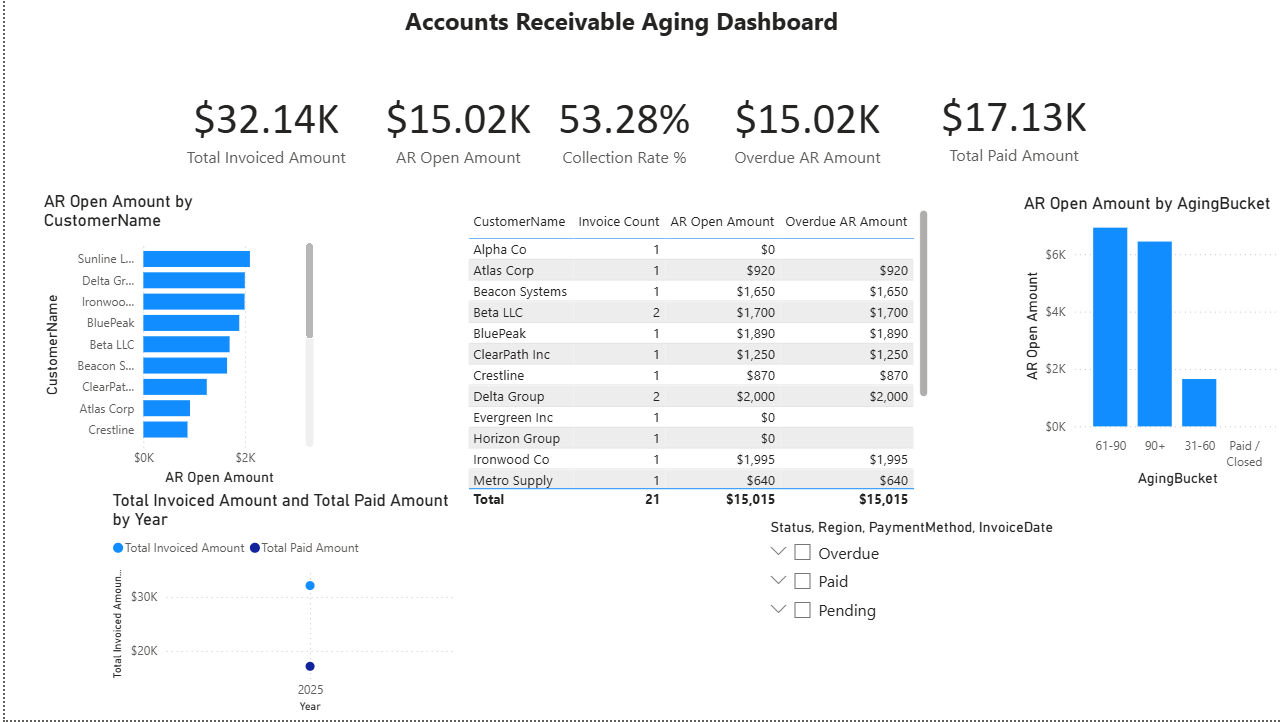

What the dashboard file says about the page in this screenshot:
{"tool":"powerbi","page":{"name":"Page 1","canvas":[1280,720],"ordinal":0},"visuals":[{"type":"textbox","box":[395.2,0,488.5,60.4],"z":0},{"type":"card","fields":{"Values":["Invoices.Total Invoiced Amount"]},"box":[162.7,59.3,197.9,131.9],"z":1000,"group":"g1"},{"type":"card","fields":{"Values":["Invoices.Total Paid Amount"]},"box":[901.1,58.2,216.1,131.3],"z":2000,"group":"g1"},{"type":"card","fields":{"Values":["Invoices.AR Open Amount"]},"box":[360.6,59.3,187.1,131.9],"z":3000,"group":"g1"},{"type":"card","fields":{"Values":["Invoices.Overdue AR Amount"]},"box":[703.9,59.3,197.9,131.9],"z":4000,"group":"g1"},{"type":"card","fields":{"Values":["Invoices.Collection Rate %"]},"box":[547.7,59.3,144,131.9],"z":5000,"group":"g1"},{"type":"clusteredBarChart","fields":{"Category":["Invoices.CustomerName"],"Y":["Invoices.AR Open Amount"]},"box":[33.4,191.2,280,298.9],"z":6000},{"type":"lineChart","fields":{"Category":["Invoices.InvoiceMonth.Variation.Date Hierarchy.Year","Invoices.InvoiceMonth.Variation.Date Hierarchy.Quarter","Invoices.InvoiceMonth.Variation.Date Hierarchy.Month","Invoices.InvoiceMonth.Variation.Date Hierarchy.Day"],"Y":["Invoices.Total Invoiced Amount","Invoices.Total Paid Amount"]},"box":[103.1,490.4,350.8,227.7],"z":7000},{"type":"tableEx","fields":{"Values":["Invoices.CustomerName","Invoices.Invoice Count","Invoices.AR Open Amount","Invoices.Overdue AR Amount"]},"box":[457.1,204.5,470.4,309.2],"z":8000},{"type":"slicer","fields":{"Values":["Invoices.Status","Invoices.Region","Invoices.PaymentMethod","Invoices.InvoiceDate"]},"box":[753,513.7,349.1,204.5],"z":9000},{"type":"clusteredColumnChart","fields":{"Category":["Invoices.AgingBucket"],"Y":["Invoices.AR Open Amount"]},"box":[1013.4,192.5,266.6,298.9],"z":10000},{"type":"group","id":"g1","title":"Group 1","box":[162.7,58.2,954.5,133],"z":10001}]}

Visuals, with their boxes in screenshot pixels (x1, y1, x2, y2), scaled from the page's 1280x720 canvas onto the 1281x722 screenshot:
textbox: [396,0,884,61]
card - Invoices.Total Invoiced Amount: [163,59,361,192]
card - Invoices.Total Paid Amount: [902,58,1118,190]
card - Invoices.AR Open Amount: [361,59,548,192]
card - Invoices.Overdue AR Amount: [704,59,903,192]
card - Invoices.Collection Rate %: [548,59,692,192]
clusteredBarChart - Invoices.CustomerName x Invoices.AR Open Amount: [33,192,314,491]
lineChart - Invoices.InvoiceMonth.Variation.Date Hierarchy.Year x Invoices.InvoiceMonth.Variation.Date Hierarchy.Quarter: [103,492,454,720]
tableEx - Invoices.CustomerName x Invoices.Invoice Count: [457,205,928,515]
slicer - Invoices.Status x Invoices.Region: [754,515,1103,720]
clusteredColumnChart - Invoices.AgingBucket x Invoices.AR Open Amount: [1014,193,1280,493]
"Group 1" group: [163,58,1118,192]
